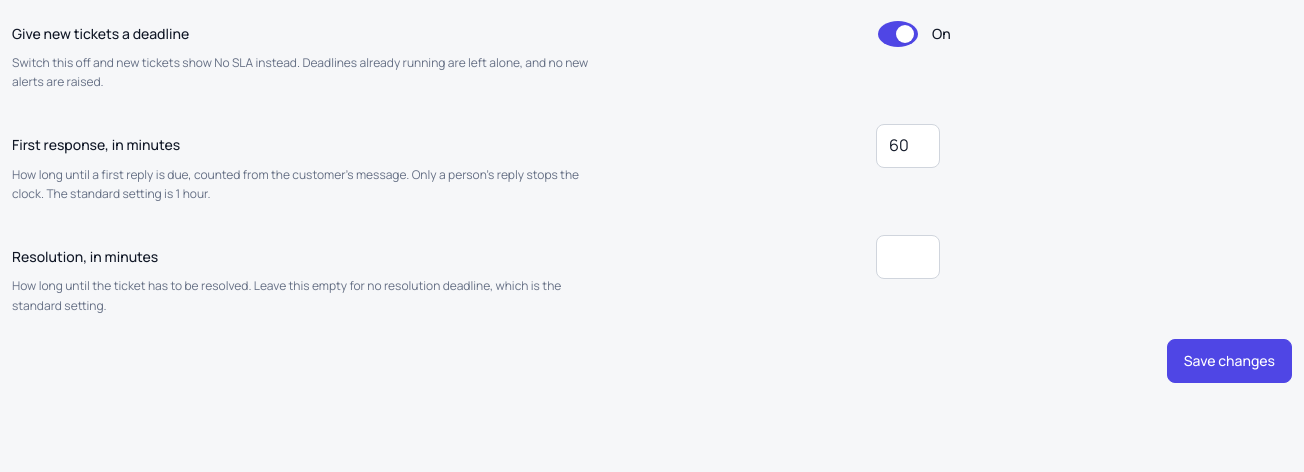
Test: SlaWindowForm › keeps what was typed when the save fails
This screenshot has width=1304, height=472.
Replace the text in the number field labelled "First response, in minutes" with "15" at (908, 146), box top-left (876, 124), bottom-right (940, 168)
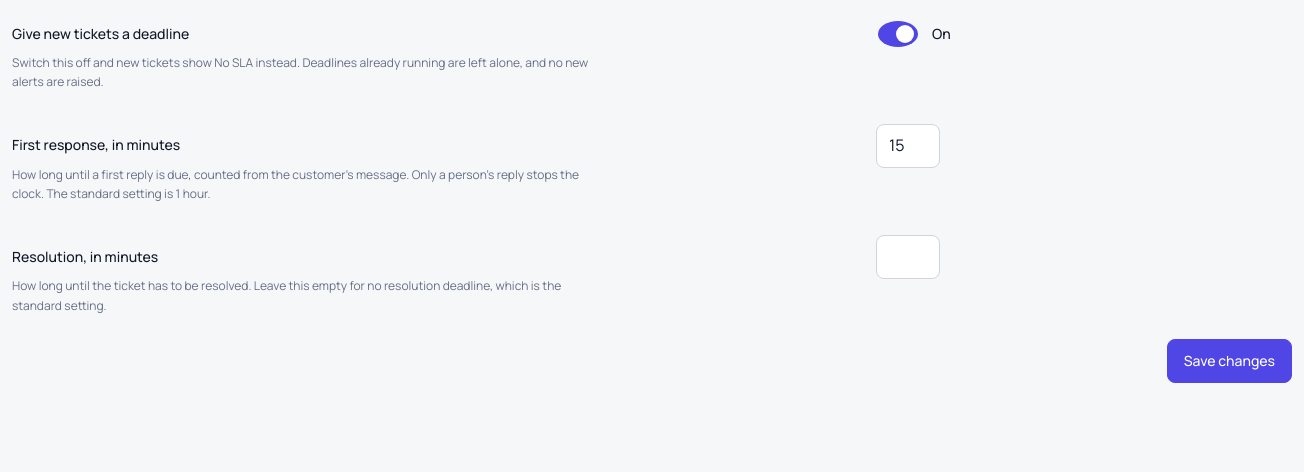
Click the button "Save changes".
click(1229, 361)  # box top-left (1167, 339), bottom-right (1292, 383)
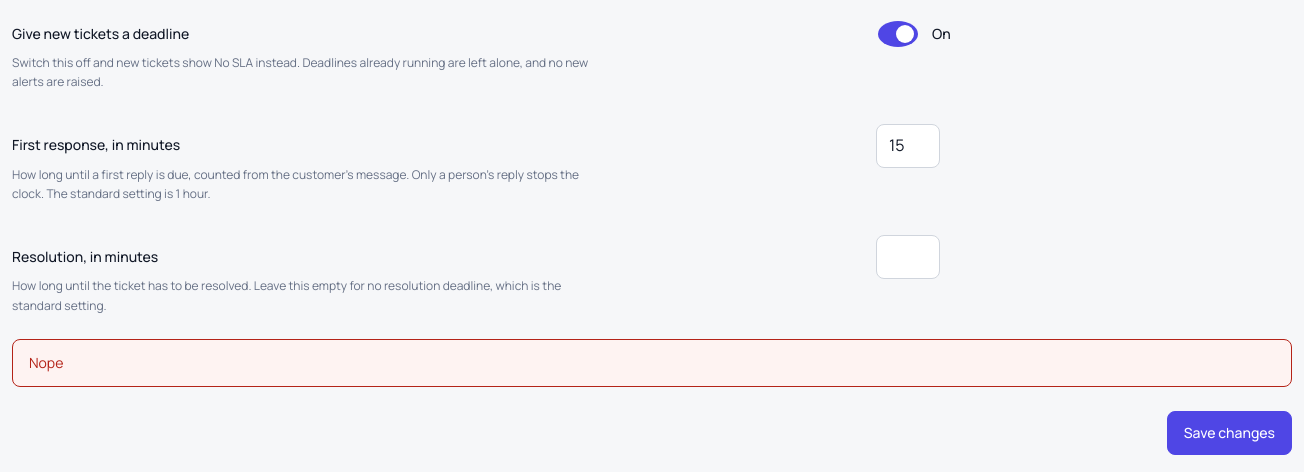
Check: the text "Nope" is shown, box top-left (29, 353), bottom-right (63, 372)
